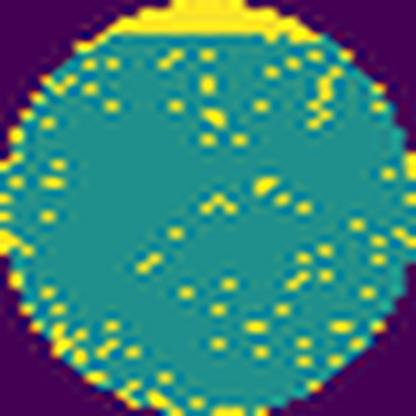Edge-Loc: (98, 0, 326, 45)
